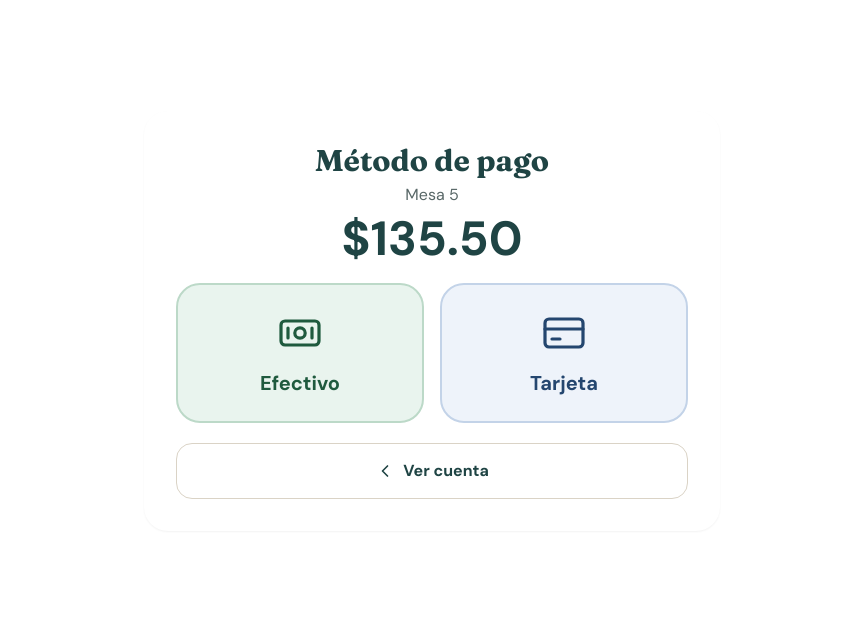
PasosPago › efectivo: el input filtra letras y deja 2 decimales
Click the button "Efectivo" at (300, 353), box [176,283,424,423]
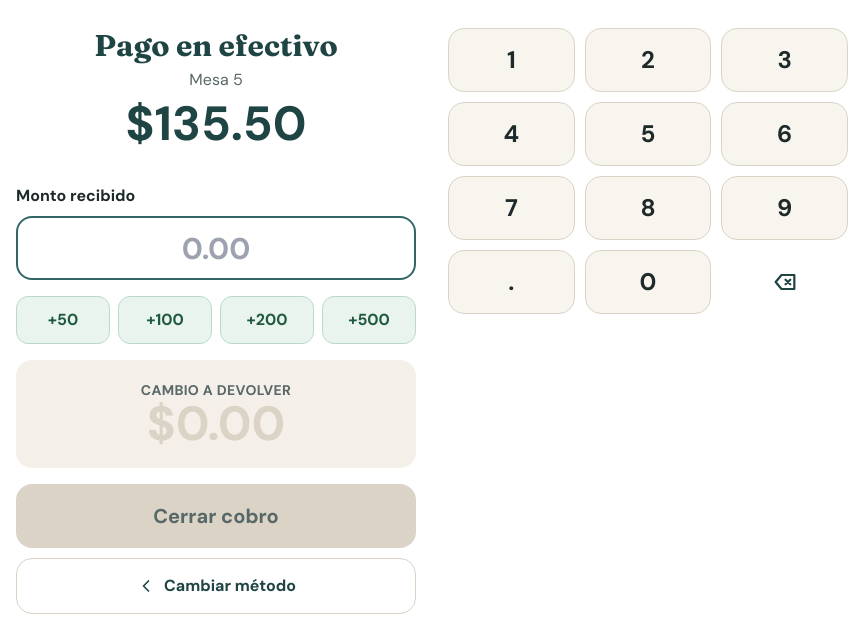
Type "a1b5.999" into the field labelled "Monto recibido" at (216, 248), box [16,216,416,280]
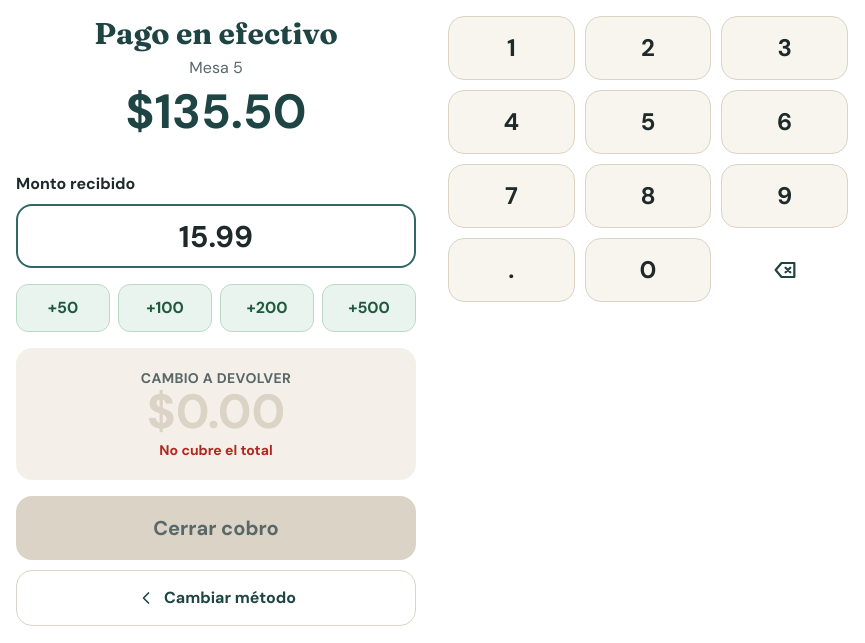
Now the field labelled "Monto recibido" holds "15.99", box [16,204,416,268]
